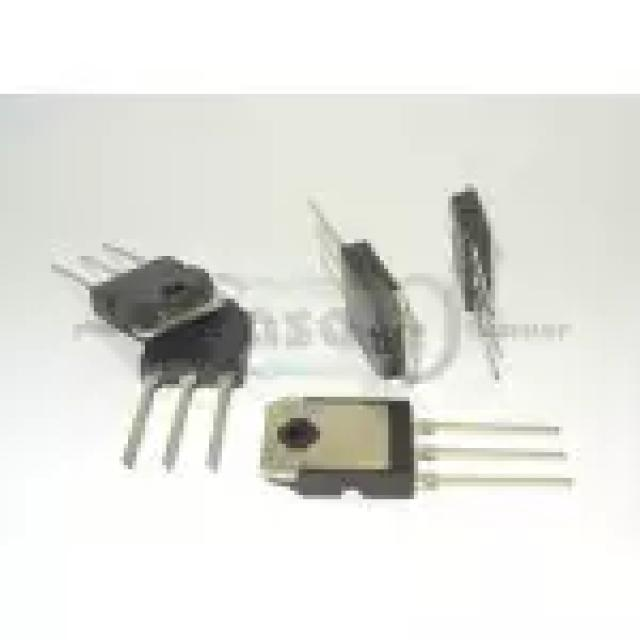Transistor: (54, 245, 249, 471), (262, 396, 576, 500), (448, 184, 568, 382), (307, 196, 408, 384), (438, 196, 534, 382)
